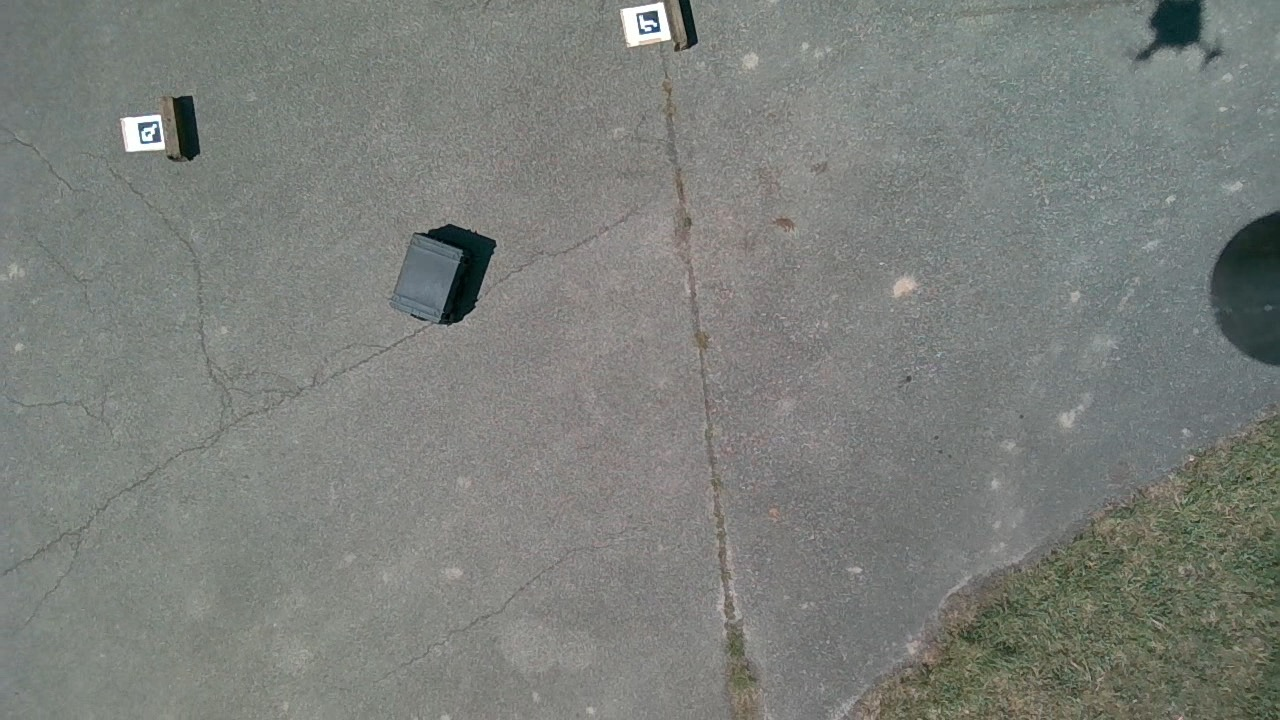rako: (389, 225, 495, 324)
